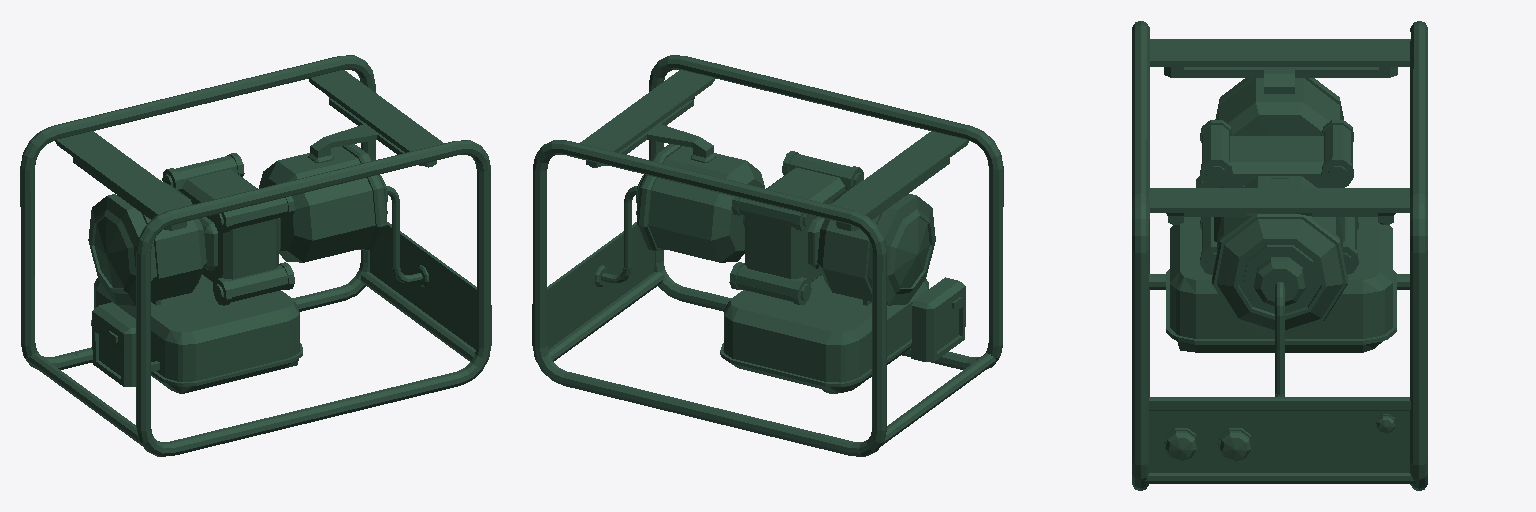
URDF robot description (apple):
<?xml version="1.0" encoding="utf-8"?>
<robot name="apple">
  <link name="base_link">
    <contact>
      <lateral_friction value="0.5"/>
      <rolling_friction value="0.0"/>
      <contact_cfm value="0.0"/>
      <contact_erp value="1.0"/>
    </contact>
    <inertial>
      <origin rpy="0 0 0" xyz="0 0 0"/>
      <mass value="0"/>
      <inertia ixx="0" ixy="0" ixz="0" iyy="0" iyz="0" izz="0"/>
    </inertial>
    <visual>
      <origin rpy="0 0 1.57" xyz="0 0 -0.55"/>
      <geometry>
        <mesh filename="models/meshes/generator/generator.obj" scale="0.02 0.02 0.02"/>
      </geometry>
      <material name="hi">
        <color rgba="0.247 0.37255 0.3098 1"/>
      </material>
    </visual>
    <collision>
      <origin rpy="0 0 1.57" xyz="0 0 -0.55"/>
      <geometry>
        <mesh filename="models/meshes/generator/generator.obj" scale="0.02 0.02 0.02"/>
      </geometry>
    </collision>
  </link>
</robot>

--- Render facts (derived) ---
The picture shows the robot from 3 angles, left to right: view 1: azimuth 30°, elevation 25°; view 2: azimuth 150°, elevation 25°; view 3: azimuth 270°, elevation 25°; orthographic projection.
Robot: apple — 1 links, 0 joints (none); root link base_link; default pose: all joints at 0.
Links seen in each view (by area): view 1: base_link; view 2: base_link; view 3: base_link.
Link boxes in pixels (x1=…): base_link: x1=20, y1=55, x2=491, y2=456; base_link: x1=532, y1=55, x2=1003, y2=456; base_link: x1=1132, y1=21, x2=1427, y2=490.
Bounding box of the posed robot: 1.1 × 0.66 × 0.7222 m (x, y, z).
1 mesh visuals loaded from 1 distinct referenced files (1 OBJ).